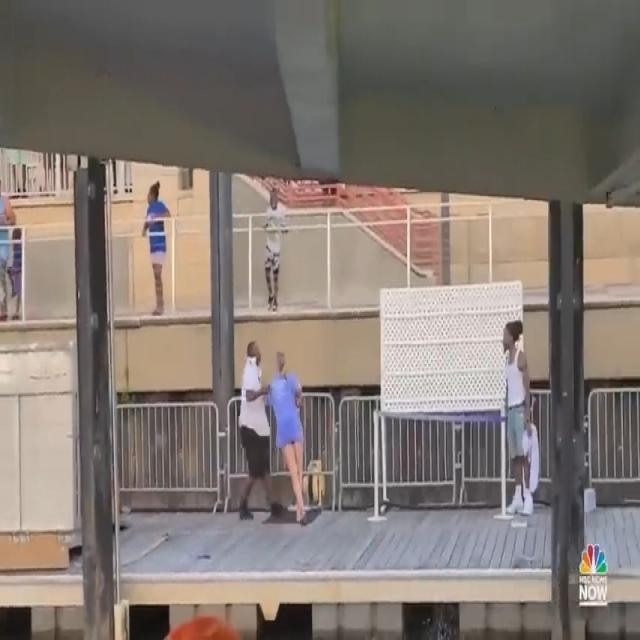fight: (227, 328, 325, 532)
non-fight: (479, 317, 544, 532)
